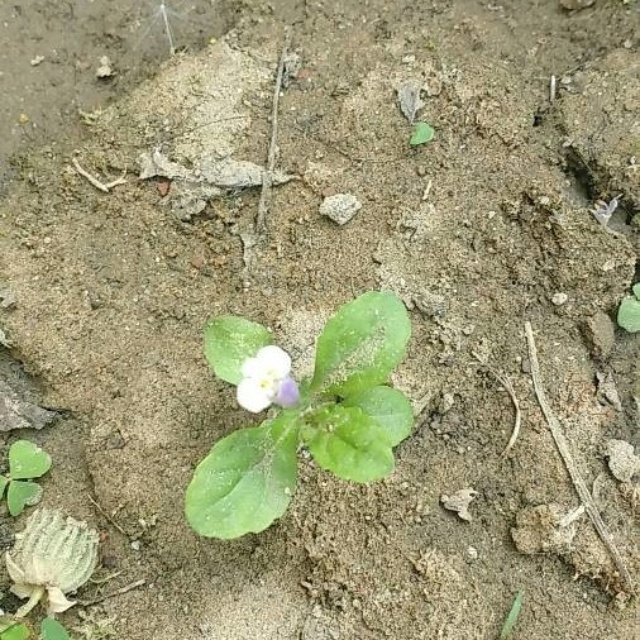obstacle: (169, 291, 425, 530)
